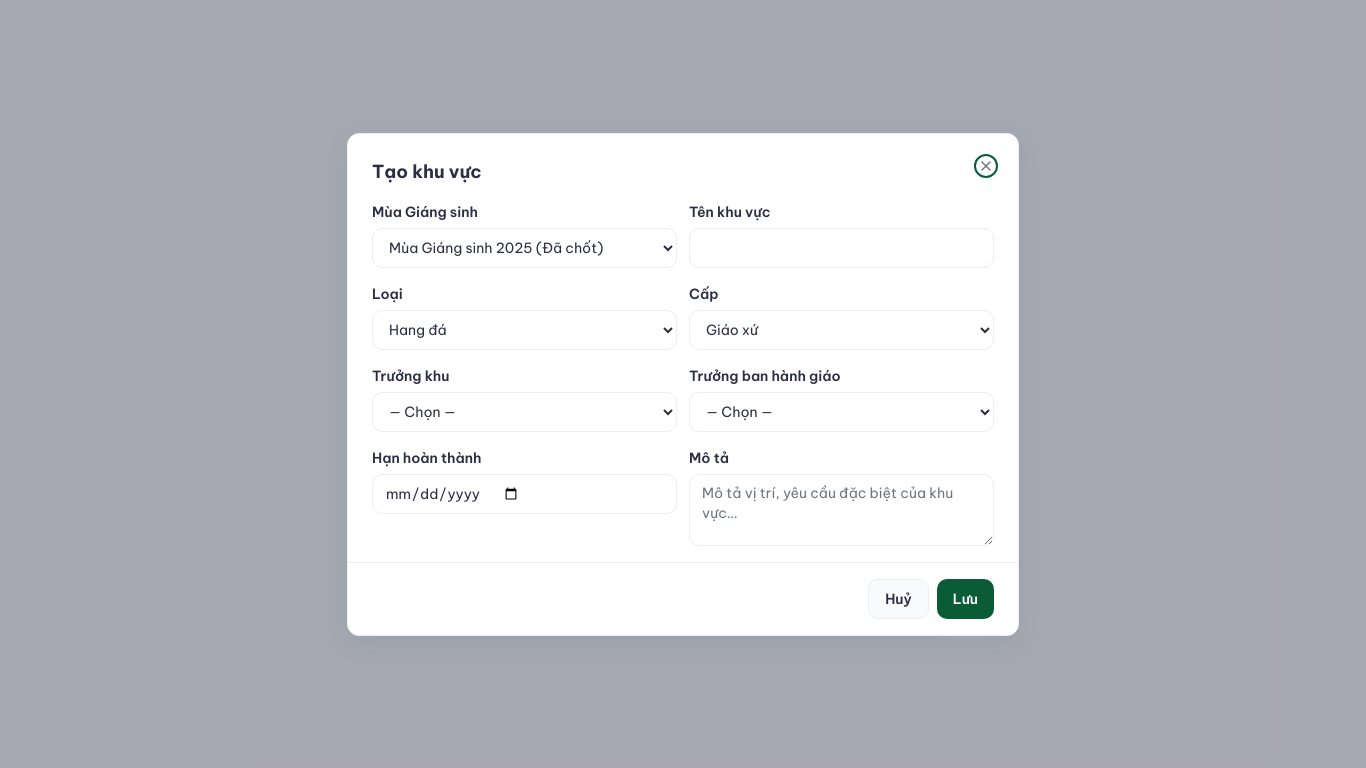
Test: AreaFormDialog: PARISH được chọn giáo khu khác
Select "Giáo khu" in the dropdown labelled "Cấp": (842, 330) x1=689 y1=310 x2=994 y2=350
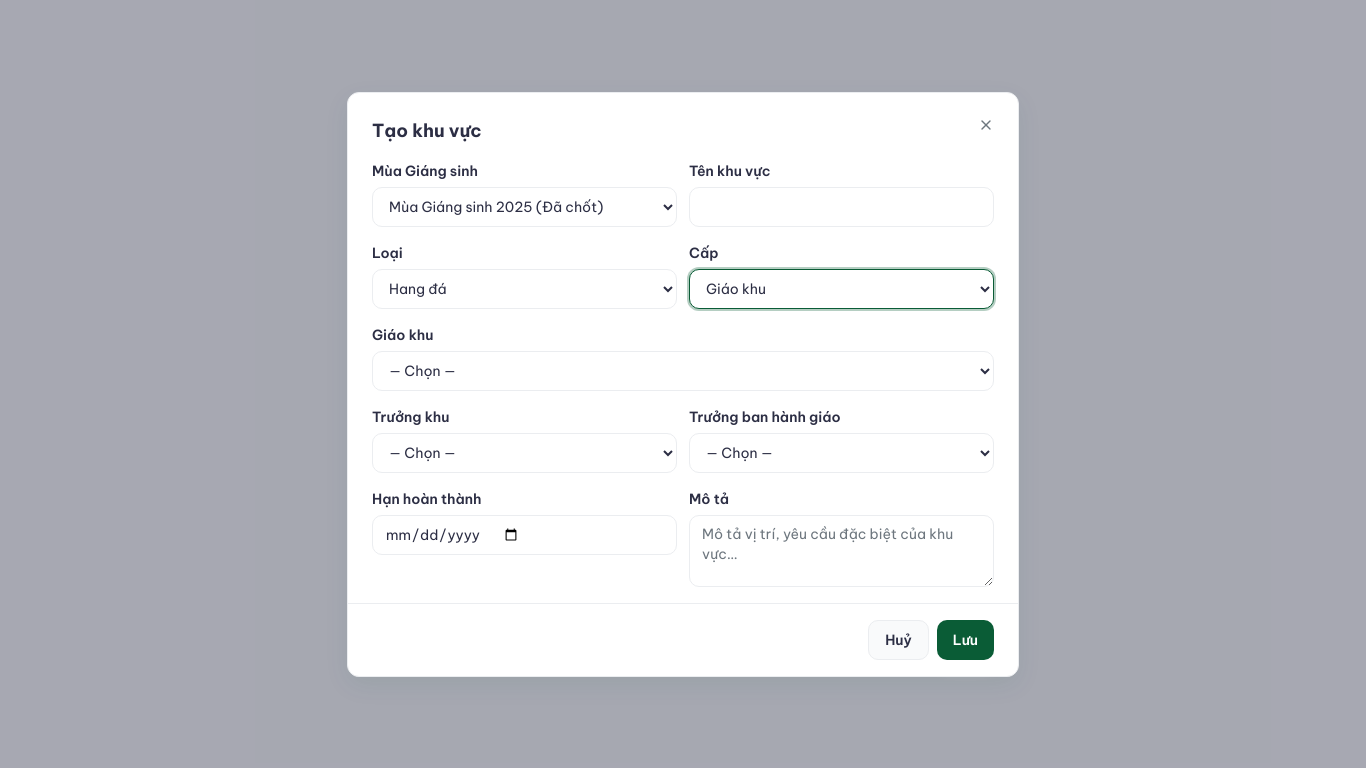
expect the dropdown labelled "Giáo khu" is enabled: met, box x1=372 y1=350 x2=994 y2=390
